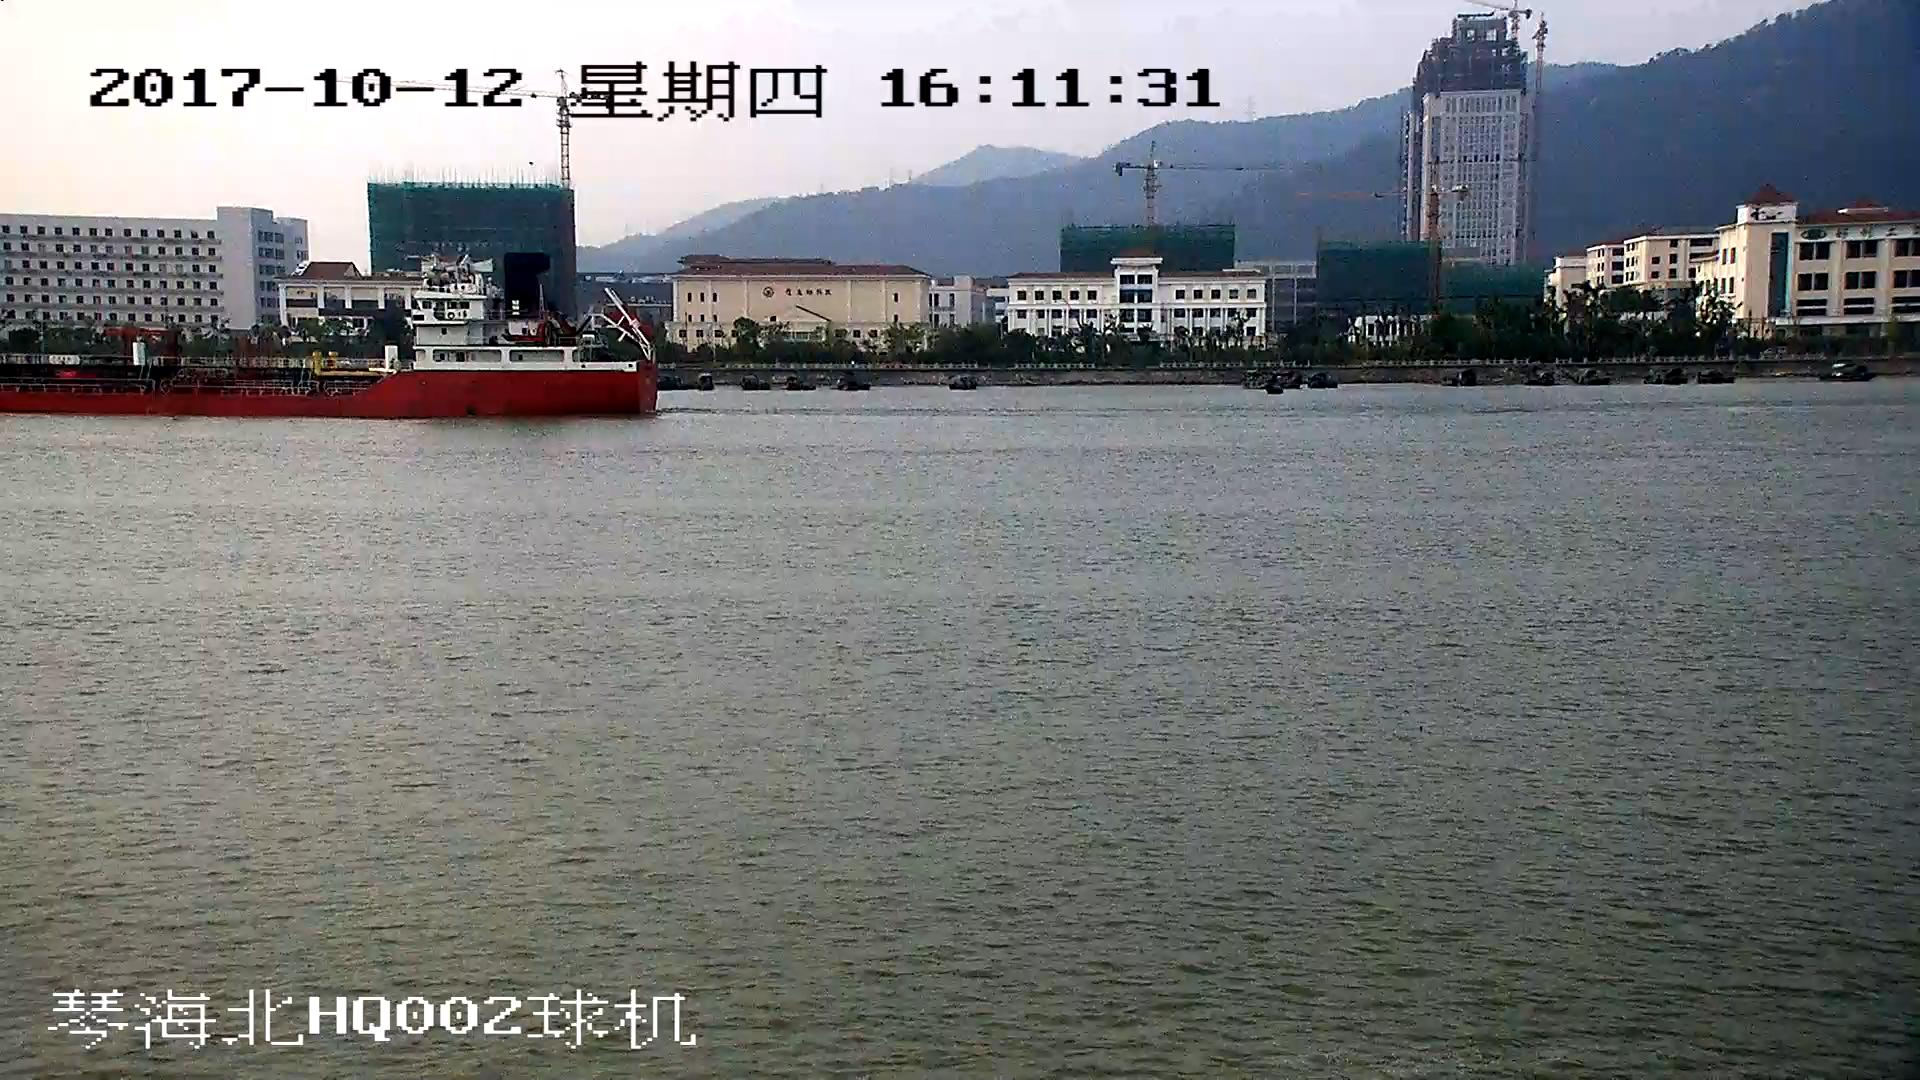general cargo ship: (1, 249, 658, 420)
